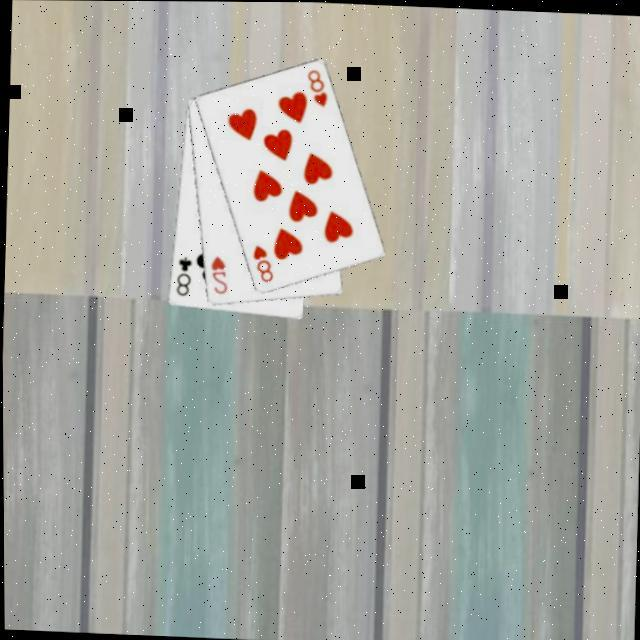2H: (206, 254, 231, 300)
8C: (172, 254, 195, 300)
8H: (249, 243, 276, 287), (304, 67, 330, 111)
